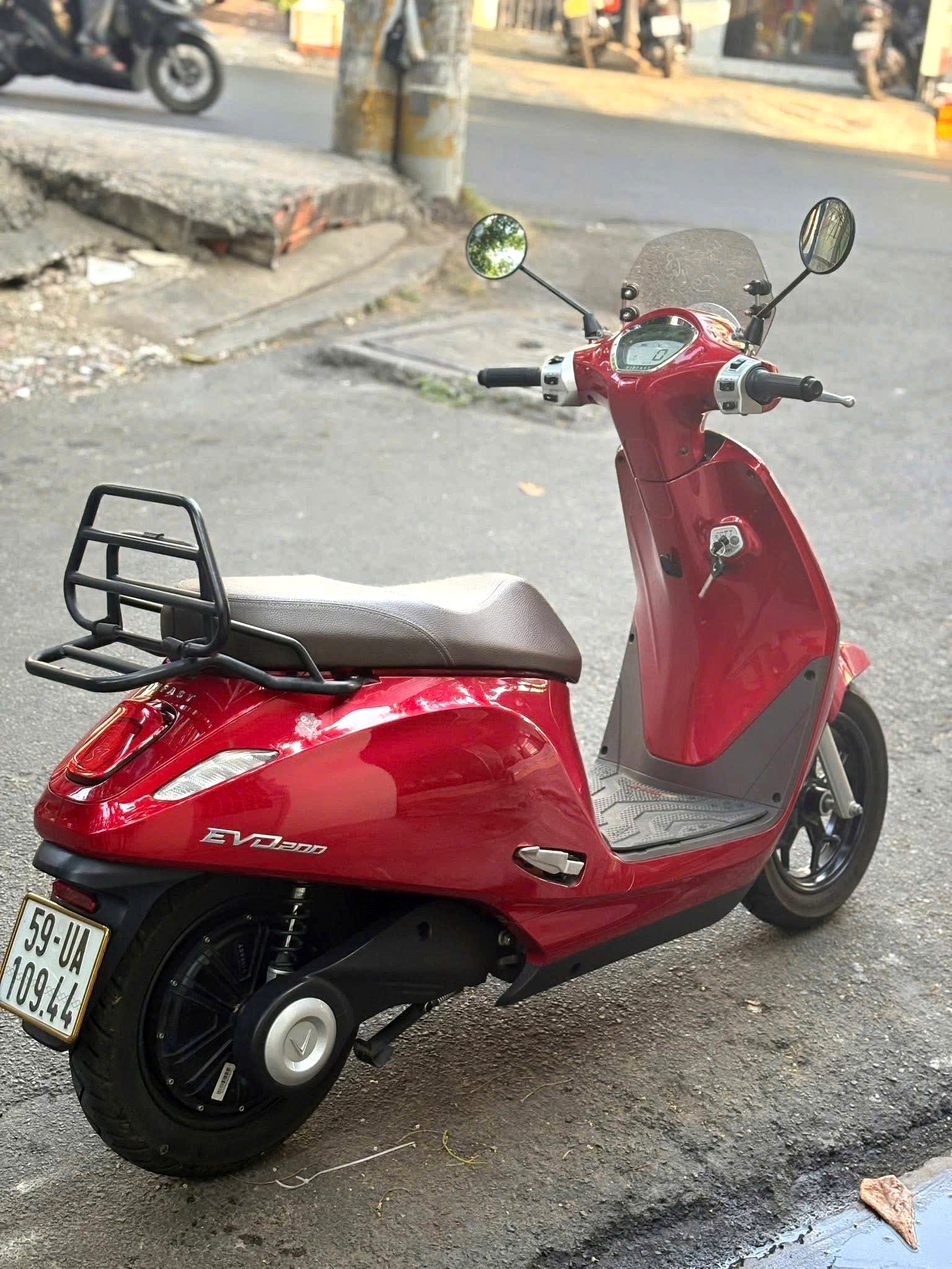Bien-so: (0, 893, 112, 1049)
